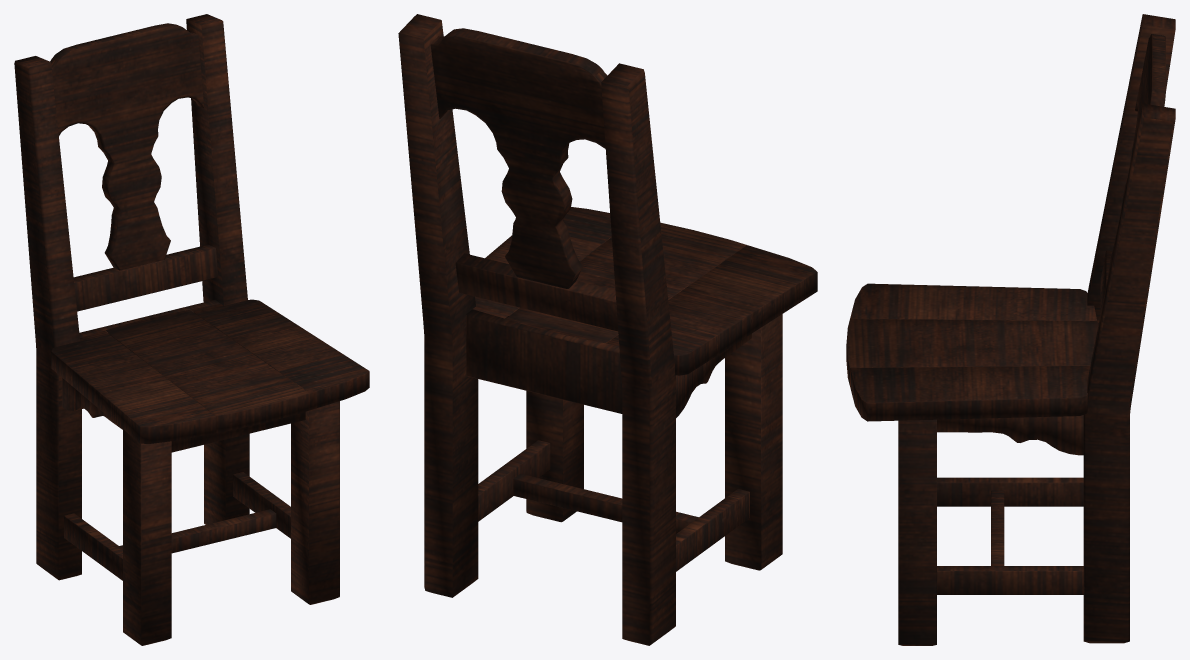
The model's file is Silla.obj.
3 renders of one model, left to right at view 1: azimuth 30°, elevation 25°; view 2: azimuth 150°, elevation 25°; view 3: azimuth 270°, elevation 25°, orthographic. The views are drawn at different scales.
Parts seen in each view (by area): view 1: Silla:Mesh; view 2: Silla:Mesh; view 3: Silla:Mesh.
Part boxes in pixels (left/top/right/bottom): Silla:Mesh: left=14, top=14, right=369, bottom=645; Silla:Mesh: left=398, top=14, right=817, bottom=645; Silla:Mesh: left=846, top=14, right=1175, bottom=645.
Bounding box in the file's own units: 2.06 × 4.29 × 2.39.
1 material, 1 textured.
